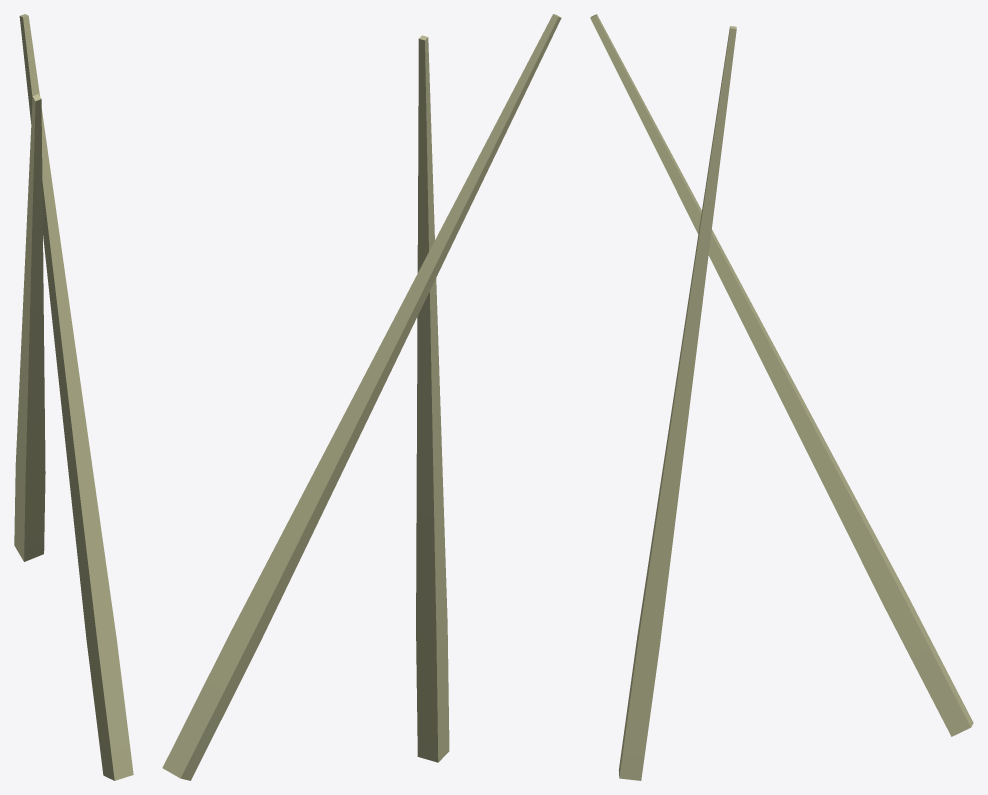
The model's file is chop_sticks.glb.
3 views of the same model, side by side, from view 1: azimuth 30°, elevation 25°; view 2: azimuth 150°, elevation 25°; view 3: azimuth 270°, elevation 25° (orthographic). The views are drawn at different scales.
Visible parts, largest first — view 1: Object_2; view 2: Object_2; view 3: Object_2.
Boxes of the visible parts, x1,y1,x2,y2 form: Object_2: (14, 14, 133, 780); Object_2: (162, 14, 561, 780); Object_2: (590, 14, 973, 780).
Bounding box in the file's own units: 9.85 × 36.4 × 17.33.
